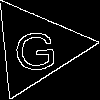G: (11, 22, 59, 72)
